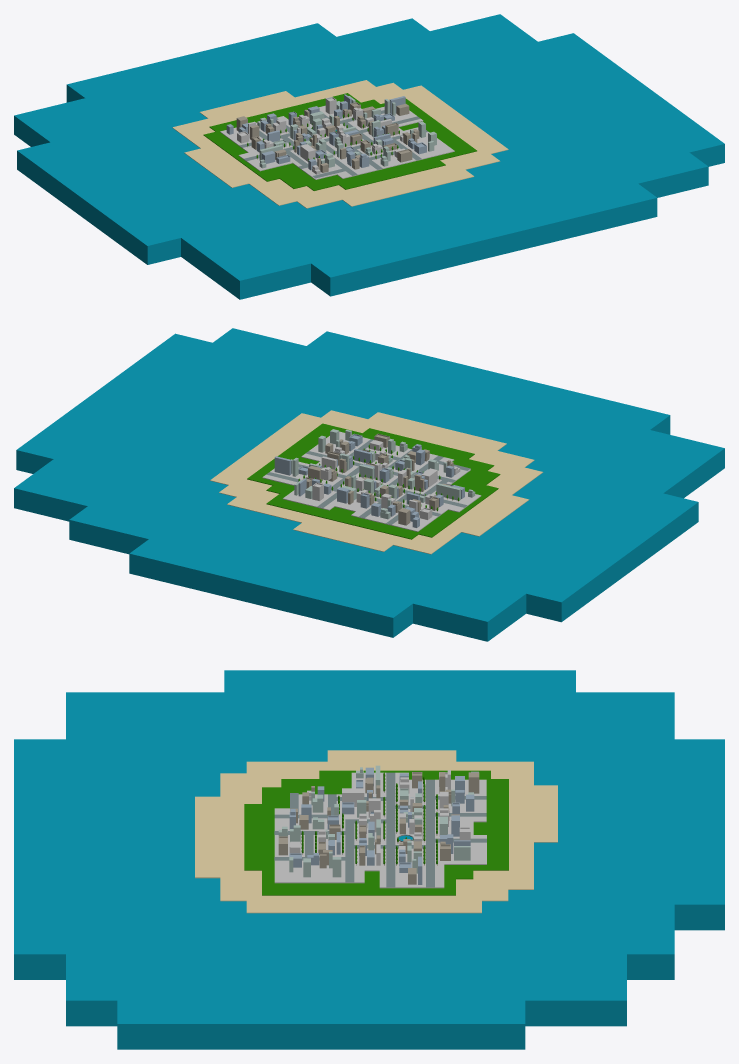
File: diving_city_01.fbx
The picture shows the model from 3 angles, top to bottom: view 1: azimuth 30°, elevation 25°; view 2: azimuth 150°, elevation 25°; view 3: azimuth 270°, elevation 25°; orthographic projection. The views are drawn at different scales.
Parts seen in each view (by area): view 1: pCube117, pCube116, pCube115, pCube60, polySurface1223; view 2: pCube117, pCube116, pCube115, pCube60, polySurface1223; view 3: pCube117, pCube116, pCube115, pCube60, polySurface1223.
Boxes of the visible parts, x1,y1,x2,y2 form: pCube117: [14, 14, 724, 299]; pCube116: [172, 80, 508, 208]; pCube115: [203, 93, 476, 190]; pCube60: [220, 101, 454, 179]; polySurface1223: [239, 110, 428, 175]; pCube117: [14, 328, 724, 641]; pCube116: [210, 410, 543, 554]; pCube115: [247, 423, 500, 539]; pCube60: [262, 431, 481, 531]; polySurface1223: [266, 439, 467, 524]; pCube117: [14, 670, 724, 1049]; pCube116: [195, 750, 557, 913]; pCube115: [244, 770, 508, 895]; pCube60: [274, 772, 486, 888]; polySurface1223: [274, 772, 486, 887].
Bounding box in the file's own units: 7060 × 455 × 5998.
